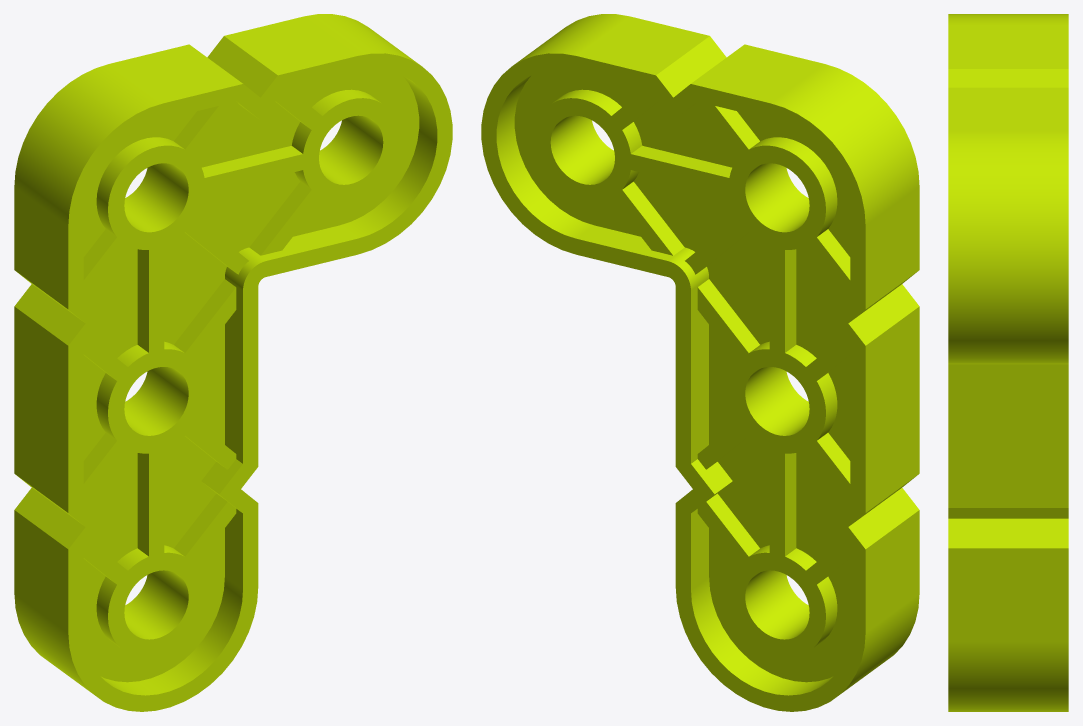
The picture shows the model from 3 angles, left to right: view 1: azimuth 30°, elevation 25°; view 2: azimuth 150°, elevation 25°; view 3: azimuth 270°, elevation 25°; orthographic projection. The views are drawn at different scales.
Visible parts, largest first — view 1: main_97d700; view 2: main_97d700; view 3: main_97d700.
Boxes of the visible parts, x1,y1,x2,y2 form: main_97d700: [14, 14, 452, 711]; main_97d700: [481, 14, 919, 711]; main_97d700: [948, 14, 1068, 711].
Bounding box in the file's own units: 25.08 × 37.78 × 6.1.
